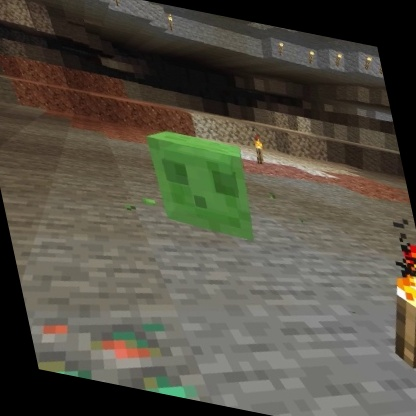slime: (141, 123, 266, 248)
